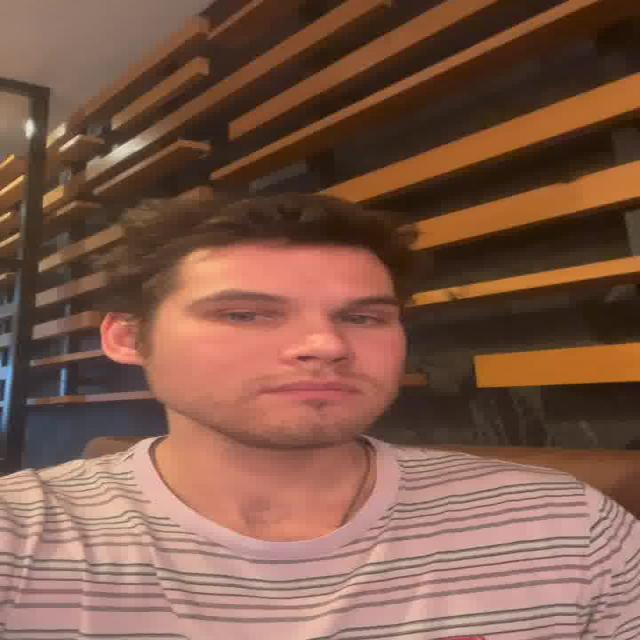earlobe: (100, 311, 142, 366)
